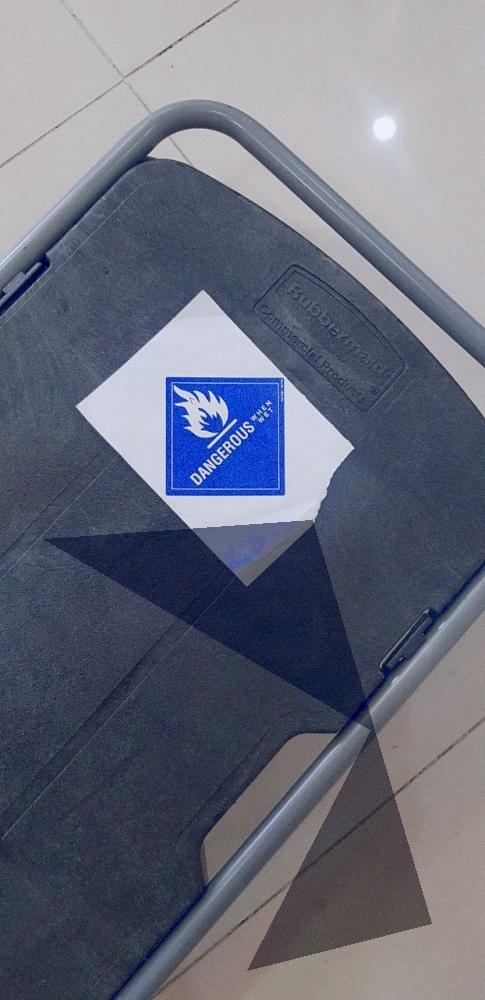dangerous-when-wet: (166, 377, 285, 495)
